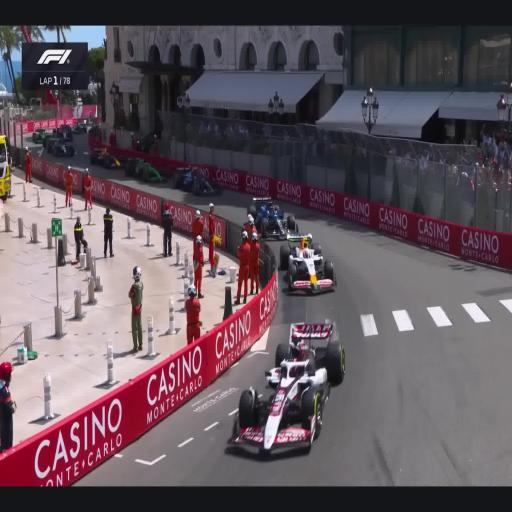f1_car: (228, 324, 344, 453), (279, 233, 337, 293), (247, 197, 298, 239), (175, 166, 223, 195), (45, 135, 75, 156), (90, 148, 121, 168), (285, 346, 291, 348), (276, 353, 278, 355), (281, 348, 282, 350)
